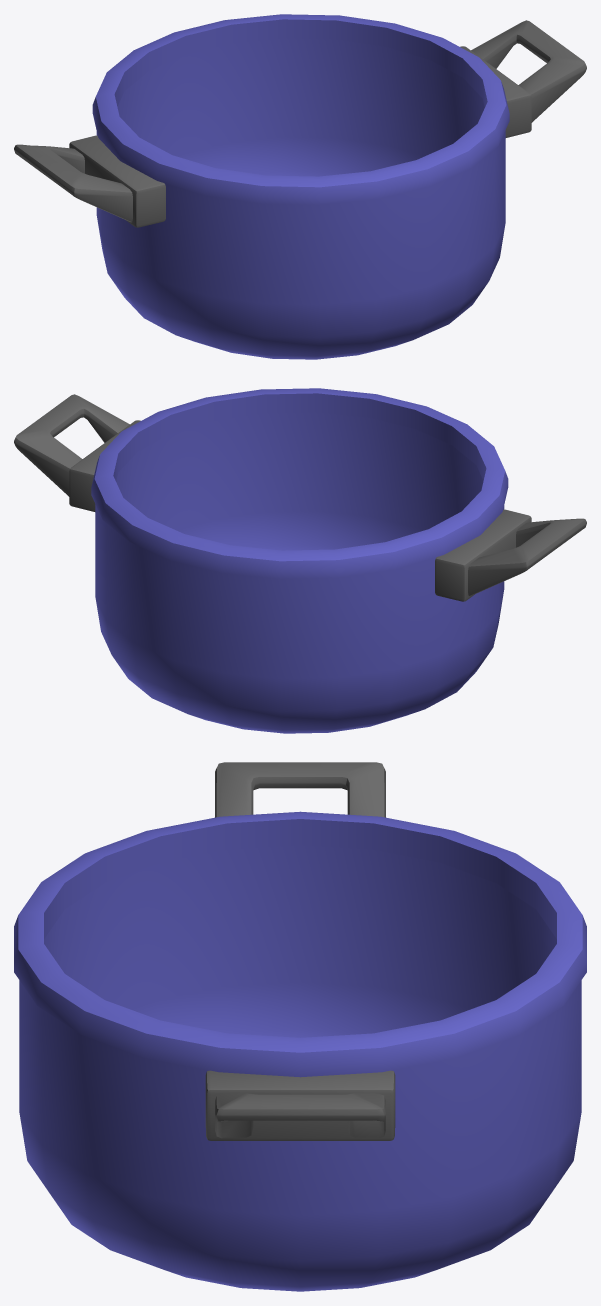
The model's file is SM_pot_03.fbx.
3 views of the same model, one above another, from view 1: azimuth 30°, elevation 25°; view 2: azimuth 150°, elevation 25°; view 3: azimuth 270°, elevation 25° (orthographic). The views are drawn at different scales.
Parts seen in each view (by area): view 1: Cylinder014; view 2: Cylinder014; view 3: Cylinder014.
Boxes of the visible parts, left/top/right/bottom form: Cylinder014: left=14, top=14, right=586, bottom=359; Cylinder014: left=14, top=388, right=586, bottom=733; Cylinder014: left=14, top=762, right=586, bottom=1291.
Size of the model in its own units: 35.29 by 13.27 by 24.53.
